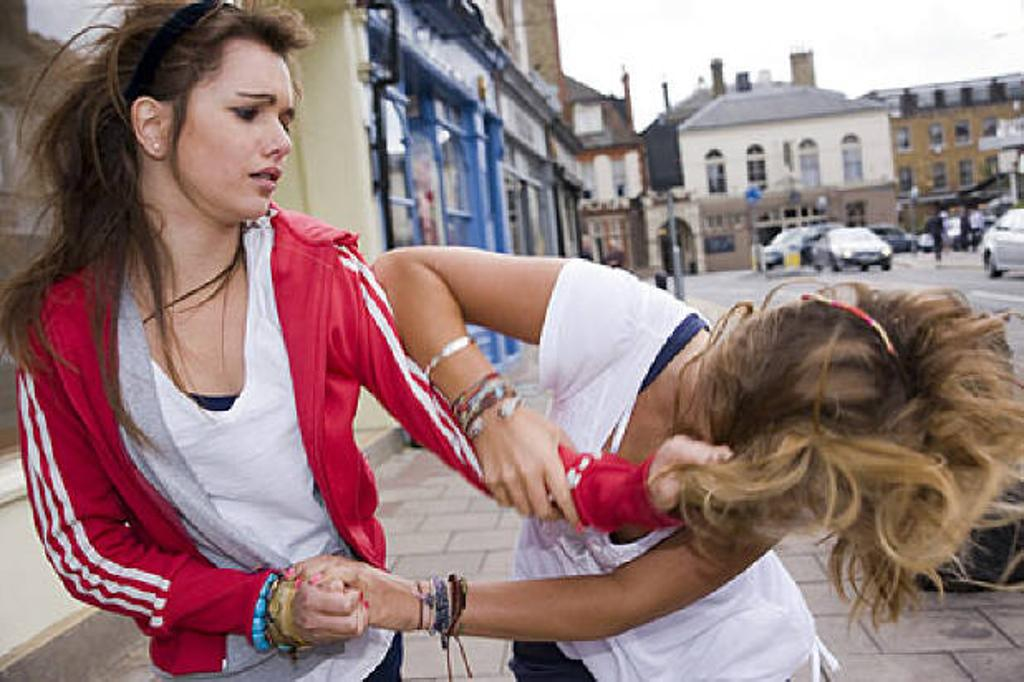face: (175, 45, 301, 221)
